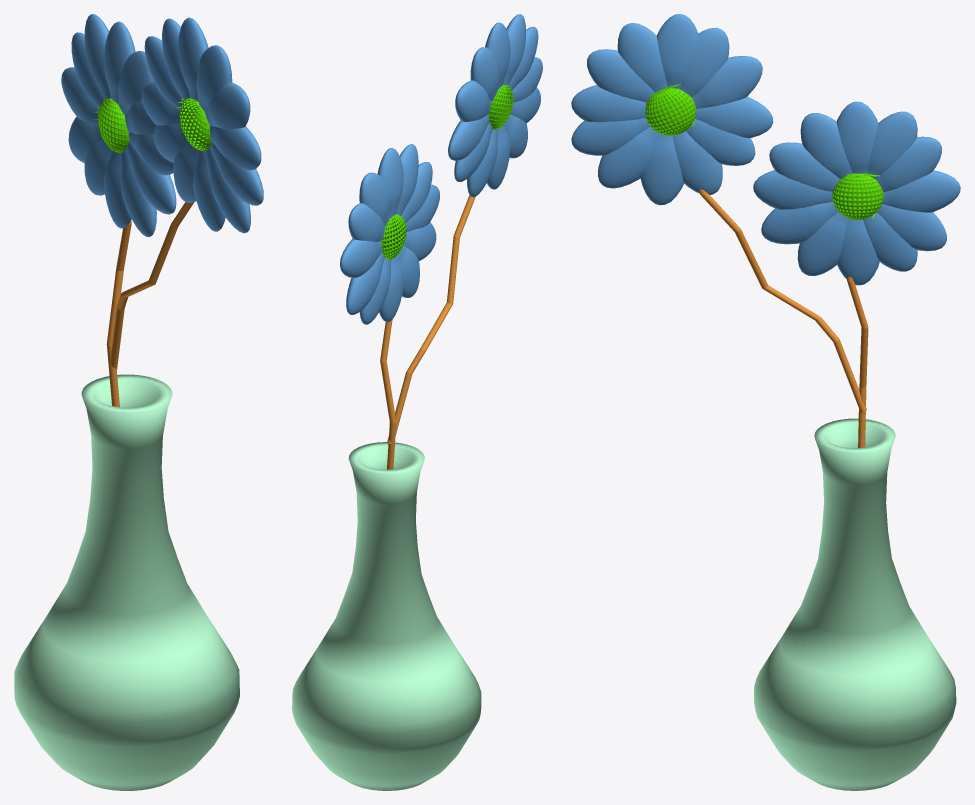
Rendered from vas 3d cartoon.fbx.
The picture shows the model from 3 angles, left to right: view 1: azimuth 30°, elevation 25°; view 2: azimuth 150°, elevation 25°; view 3: azimuth 270°, elevation 25°; orthographic projection. The views are drawn at different scales.
Visible parts, largest first — view 1: Cube, Sphere.005, Sphere.021, Cylinder.001, Sphere.020, Sphere.014, Sphere.012, Sphere.015, Sphere.018, Sphere.001, Sphere.019, Sphere.002 (+17 smaller); view 2: Cube, Cylinder.001, Sphere.004, Sphere.009, Sphere.017, Sphere.022, Sphere.001, Sphere.003, Sphere.002, Cylinder, Sphere.016, Sphere.015 (+17 smaller); view 3: Cube, Sphere.017, Sphere.004, Sphere.018, Sphere.014, Sphere.005, Sphere.001, Sphere.015, Sphere.022, Sphere.002, Sphere.021, Sphere.025 (+17 smaller).
Part boxes in pixels (x1=…): Cube: x1=14, y1=374, x2=239, y2=790; Sphere.005: x1=126, y1=141, x2=176, y2=214; Sphere.021: x1=205, y1=82, x2=250, y2=129; Cylinder.001: x1=110, y1=202, x2=194, y2=369; Sphere.020: x1=210, y1=126, x2=261, y2=170; Sphere.014: x1=196, y1=45, x2=232, y2=111; Sphere.012: x1=120, y1=149, x2=156, y2=237; Sphere.015: x1=178, y1=17, x2=208, y2=101; Sphere.018: x1=206, y1=147, x2=250, y2=233; Sphere.001: x1=104, y1=21, x2=135, y2=103; Sphere.019: x1=210, y1=141, x2=263, y2=205; Sphere.002: x1=84, y1=14, x2=111, y2=99; Cube: x1=292, y1=442, x2=481, y2=790; Cylinder.001: x1=387, y1=195, x2=475, y2=443; Sphere.004: x1=340, y1=239, x2=382, y2=277; Sphere.009: x1=346, y1=251, x2=384, y2=314; Sphere.017: x1=455, y1=80, x2=491, y2=121; Sphere.022: x1=448, y1=114, x2=489, y2=160; Sphere.001: x1=377, y1=148, x2=403, y2=218; Sphere.003: x1=348, y1=203, x2=385, y2=241; Sphere.002: x1=359, y1=172, x2=389, y2=226; Cylinder: x1=380, y1=319, x2=396, y2=469; Sphere.016: x1=470, y1=47, x2=498, y2=101; Sphere.015: x1=485, y1=22, x2=510, y2=89; Cube: x1=754, y1=418, x2=956, y2=790; Sphere.017: x1=692, y1=56, x2=762, y2=108; Sphere.004: x1=881, y1=170, x2=960, y2=212; Sphere.018: x1=598, y1=126, x2=659, y2=188; Sphere.014: x1=617, y1=23, x2=667, y2=92; Sphere.005: x1=761, y1=201, x2=837, y2=244; Sphere.001: x1=836, y1=101, x2=878, y2=173; Sphere.015: x1=656, y1=14, x2=698, y2=88; Sphere.022: x1=694, y1=96, x2=773, y2=138; Sphere.002: x1=866, y1=111, x2=917, y2=179; Sphere.021: x1=587, y1=49, x2=654, y2=102; Sphere.025: x1=640, y1=134, x2=683, y2=205.
Bounding box in the file's own units: 125 × 510 × 240.
